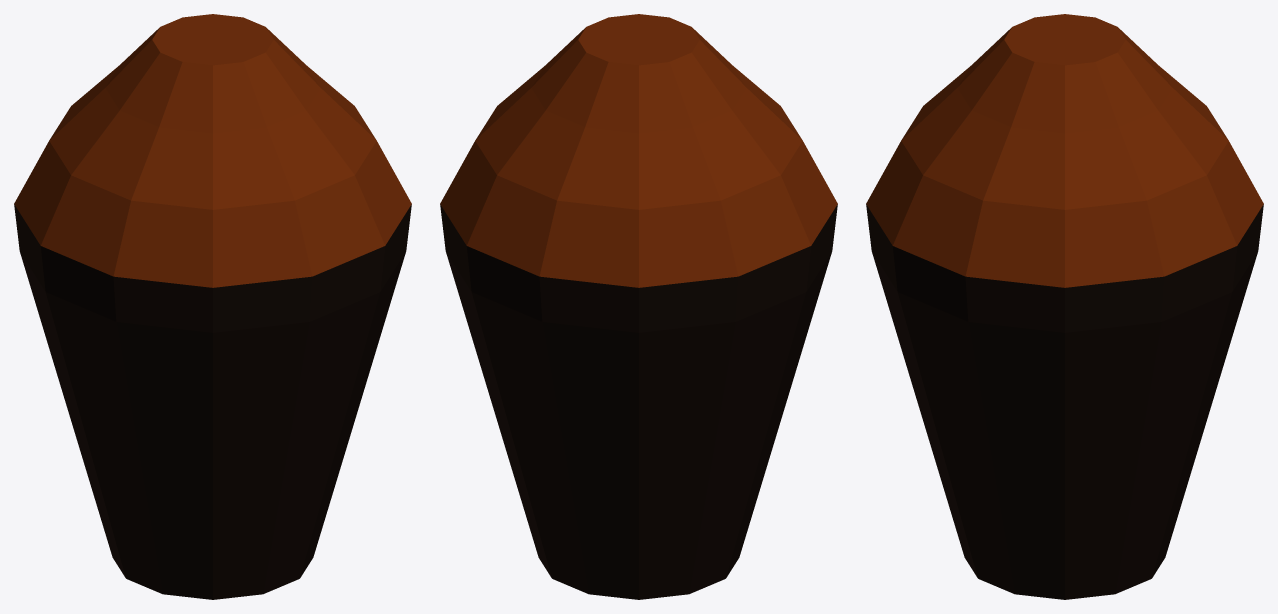
File: capsulaDeVidro.fbx
3 views of the same model, side by side, from view 1: azimuth 30°, elevation 25°; view 2: azimuth 150°, elevation 25°; view 3: azimuth 270°, elevation 25° (orthographic).
Visible parts, largest first — view 1: Cylinder.002; view 2: Cylinder.002; view 3: Cylinder.002.
Boxes of the visible parts, x1,y1,x2,y2 form: Cylinder.002: [14, 14, 411, 599]; Cylinder.002: [440, 14, 837, 599]; Cylinder.002: [866, 14, 1263, 599].
Bounding box in the file's own units: 180 × 259 × 180.
